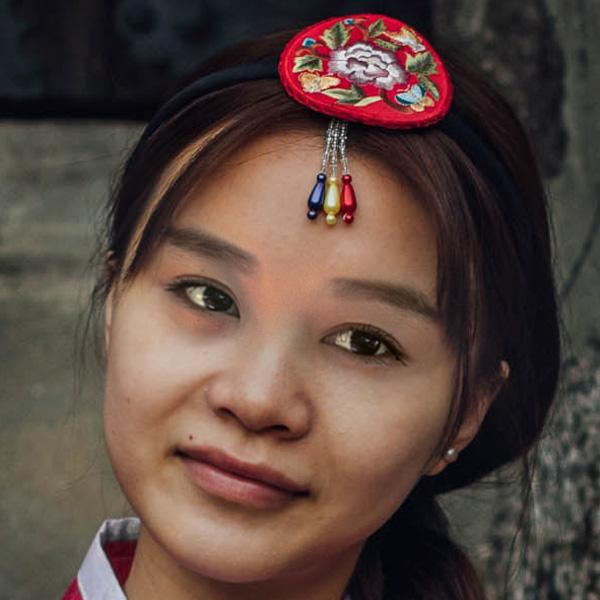Eyes: (311, 309, 416, 372), (162, 263, 248, 326)
